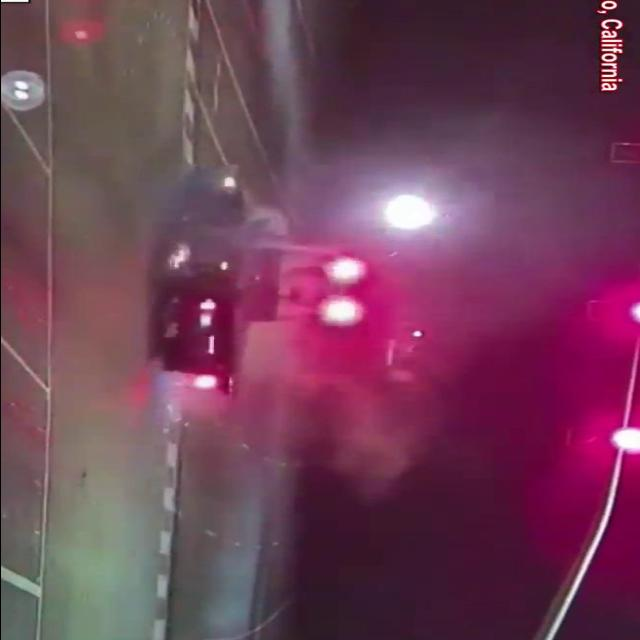accident: (119, 165, 369, 395)
